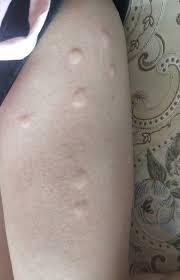Mosquito: (71, 170, 93, 193), (70, 197, 93, 218), (65, 46, 84, 66), (14, 111, 35, 129), (70, 87, 85, 108), (101, 28, 110, 47), (108, 65, 115, 77)
